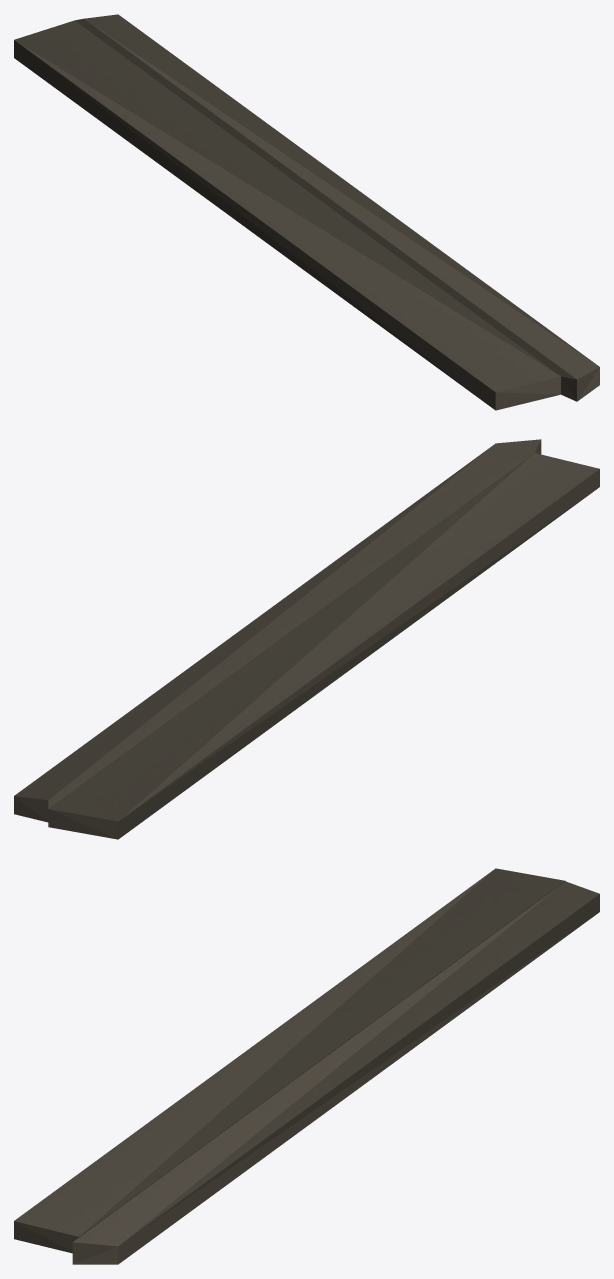
File: Wood_1B.fbx
The picture shows the model from 3 angles, top to bottom: view 1: azimuth 30°, elevation 25°; view 2: azimuth 150°, elevation 25°; view 3: azimuth 330°, elevation 25°; orthographic projection.
Visible parts, largest first — view 1: pCube991; view 2: pCube991; view 3: pCube991.
Boxes of the visible parts, x1,y1,x2,y2 form: pCube991: (14,14,599,410); pCube991: (14,439,599,839); pCube991: (14,868,599,1264).
Size of the model in its own units: 0.6 by 0.1225 by 4.96.
